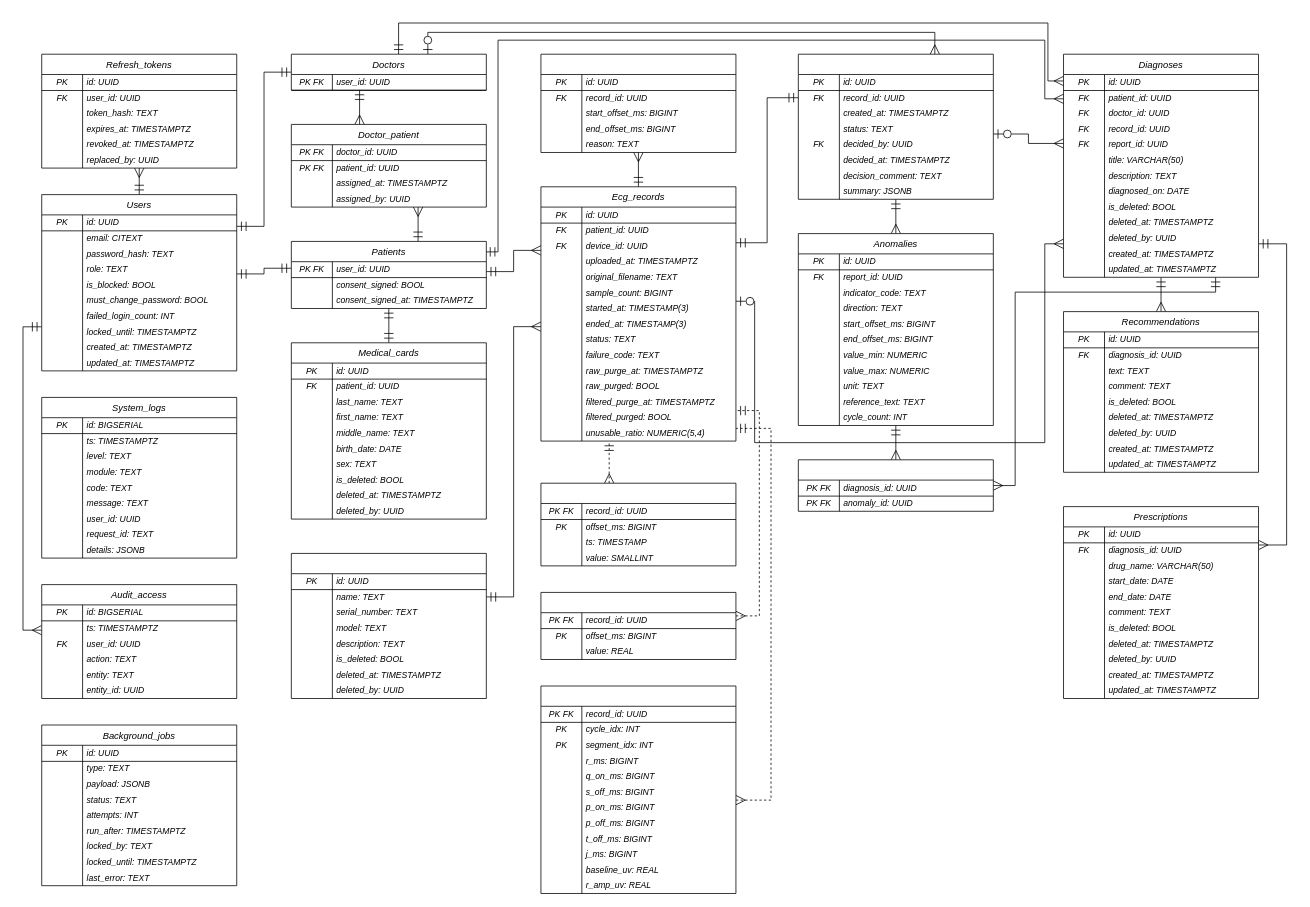
The diagram is 1310 pixels wide and 907 high, and some of its shapes have lost their labels. Here are the shapes that lost their labels. From the top down, the box of each, then its label:
(540, 53, 736, 152): Ecg_gaps
(798, 53, 993, 199): Analysis_reports
(798, 459, 993, 511): Diagnosis_anomalies
(540, 482, 736, 566): Raw_samples
(291, 553, 486, 698): Devices
(540, 592, 736, 659): Filtered_samples
(540, 685, 736, 893): Fiducials
